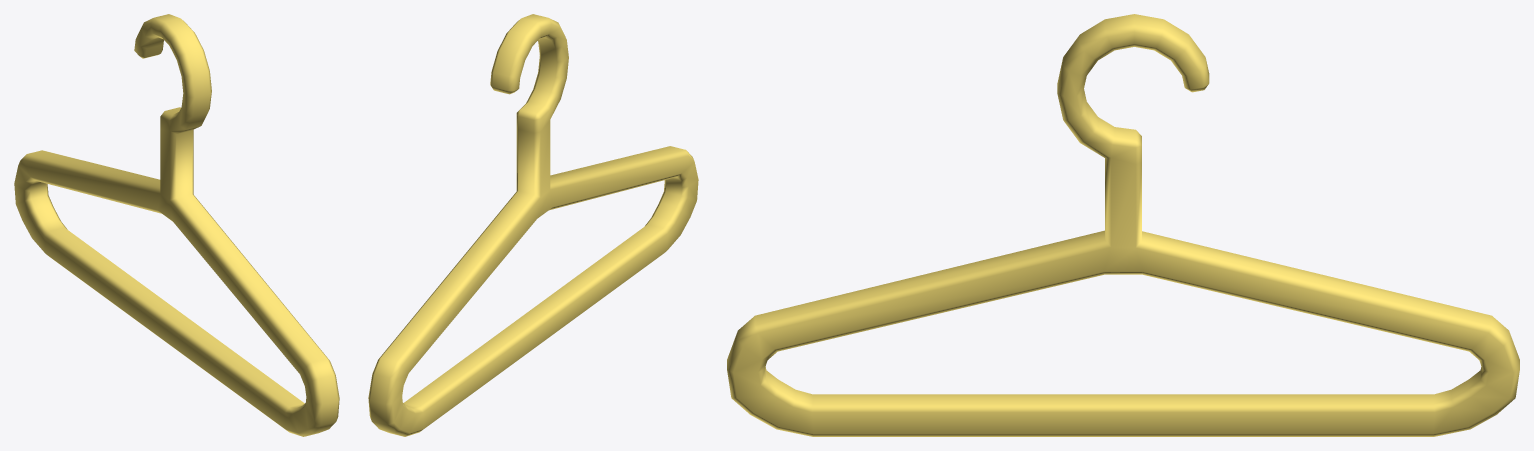
File: Clothes_hanger_5.glb
The picture shows the model from 3 angles, left to right: view 1: azimuth 30°, elevation 25°; view 2: azimuth 150°, elevation 25°; view 3: azimuth 270°, elevation 25°; orthographic projection. The views are drawn at different scales.
Visible parts, largest first — view 1: Clothes_hanger_5; view 2: Clothes_hanger_5; view 3: Clothes_hanger_5.
Boxes of the visible parts, bbox=[...] form: Clothes_hanger_5: bbox=[14, 14, 339, 436]; Clothes_hanger_5: bbox=[368, 14, 698, 436]; Clothes_hanger_5: bbox=[727, 14, 1519, 436].
Bounding box in the file's own units: 0.017 × 0.2179 × 0.3789.
Materials: 1 (1 with a texture image).
